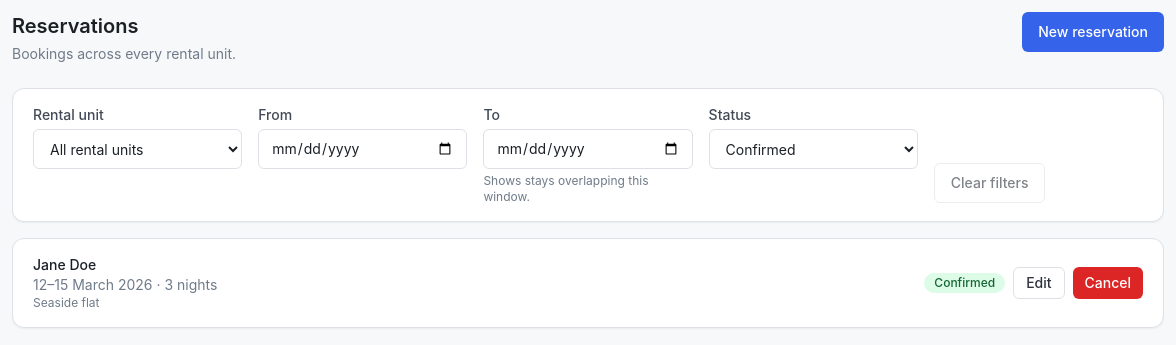
it: ReservationsPage — filters › does not request an inverted window it knows would 400
The width and height of the screenshot is (1176, 345).
Expected: the text "Jane Doe" is shown, [33,256,96,273]
In the date field labelled "From": (363, 149) [258,129,467,169], type "2026-04-01"
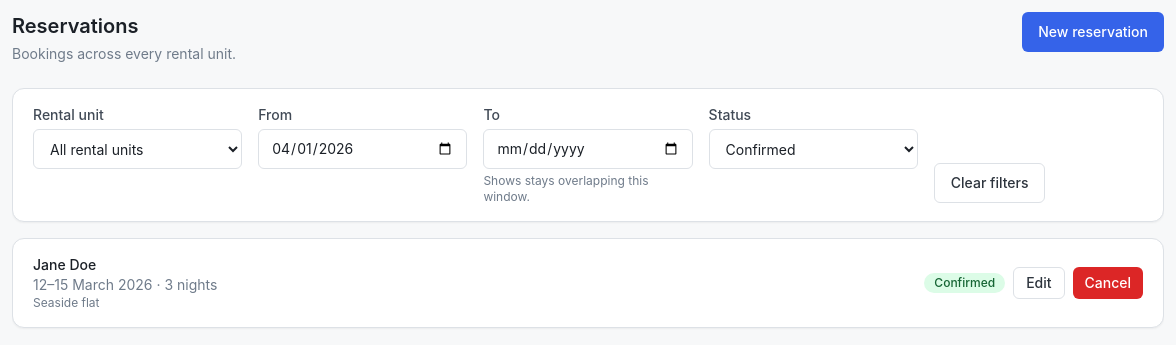
In the date field labelled "To": (588, 149) [483,129,693,169], type "2026-03-01"
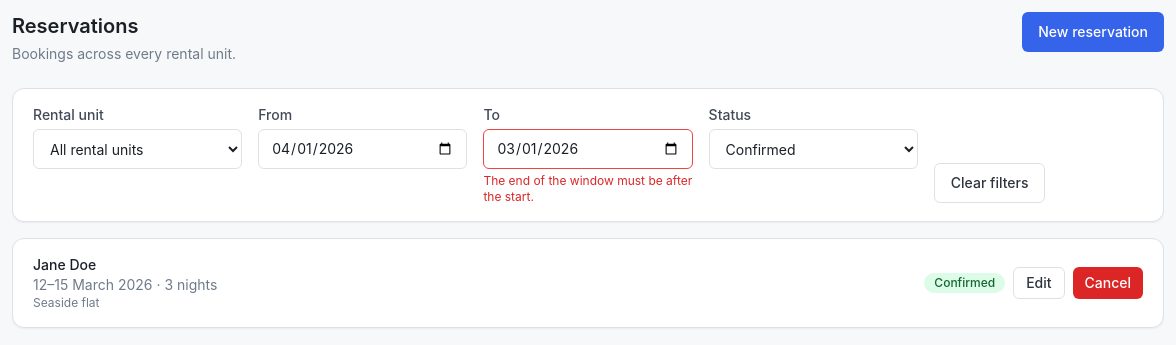
Expected: the text "Jane Doe" is shown, [33,256,96,273]
Now the text "The end of the window must be after the start." is shown, box [483,173,693,205]
